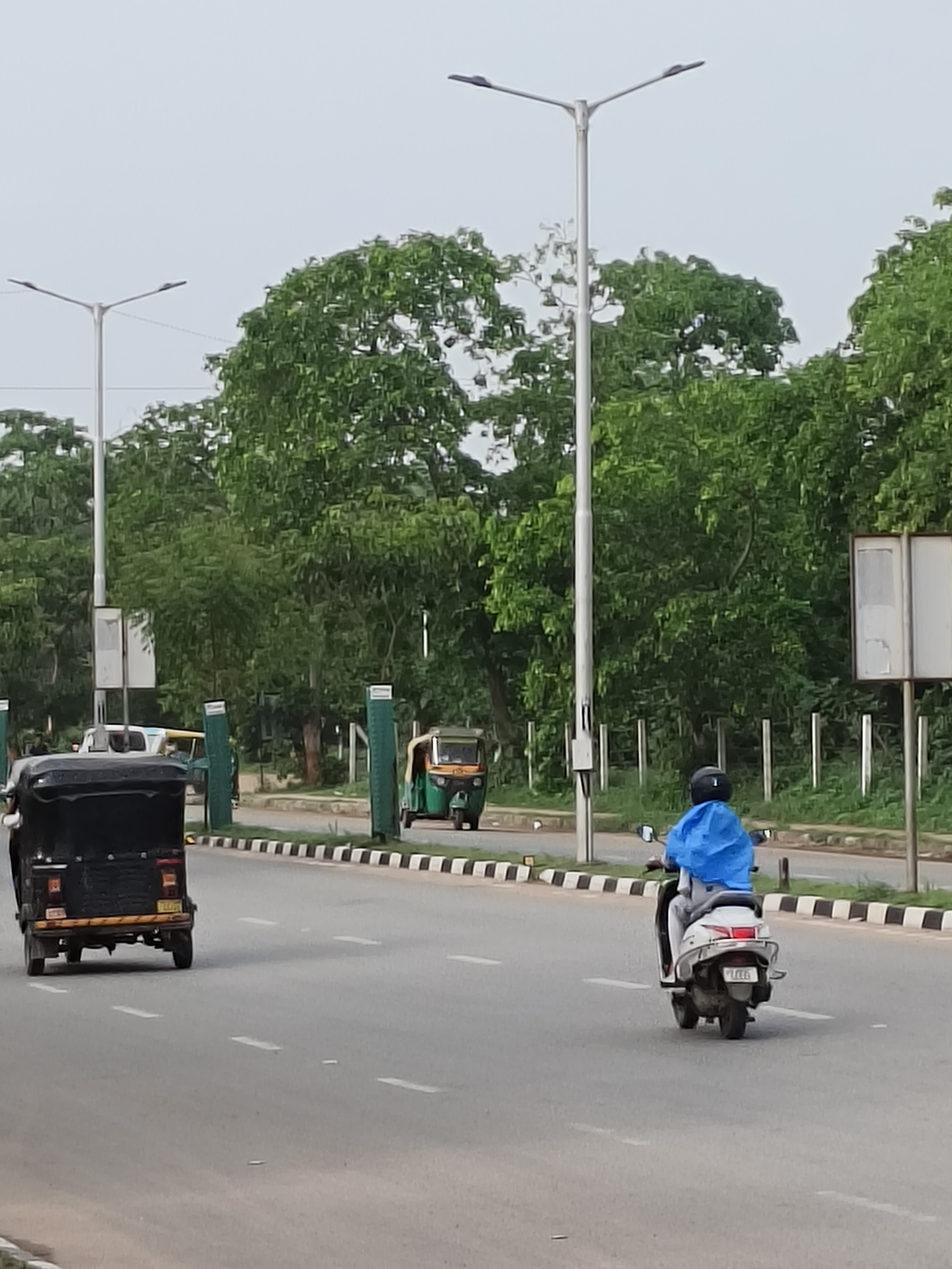BikeWithRider: (621, 738, 813, 1052)
Helmet: (684, 754, 742, 820)
